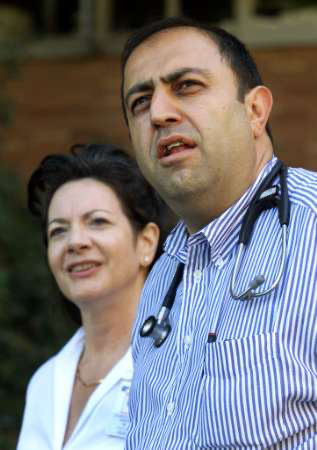Face: (126, 47, 246, 197), (47, 183, 124, 293)
